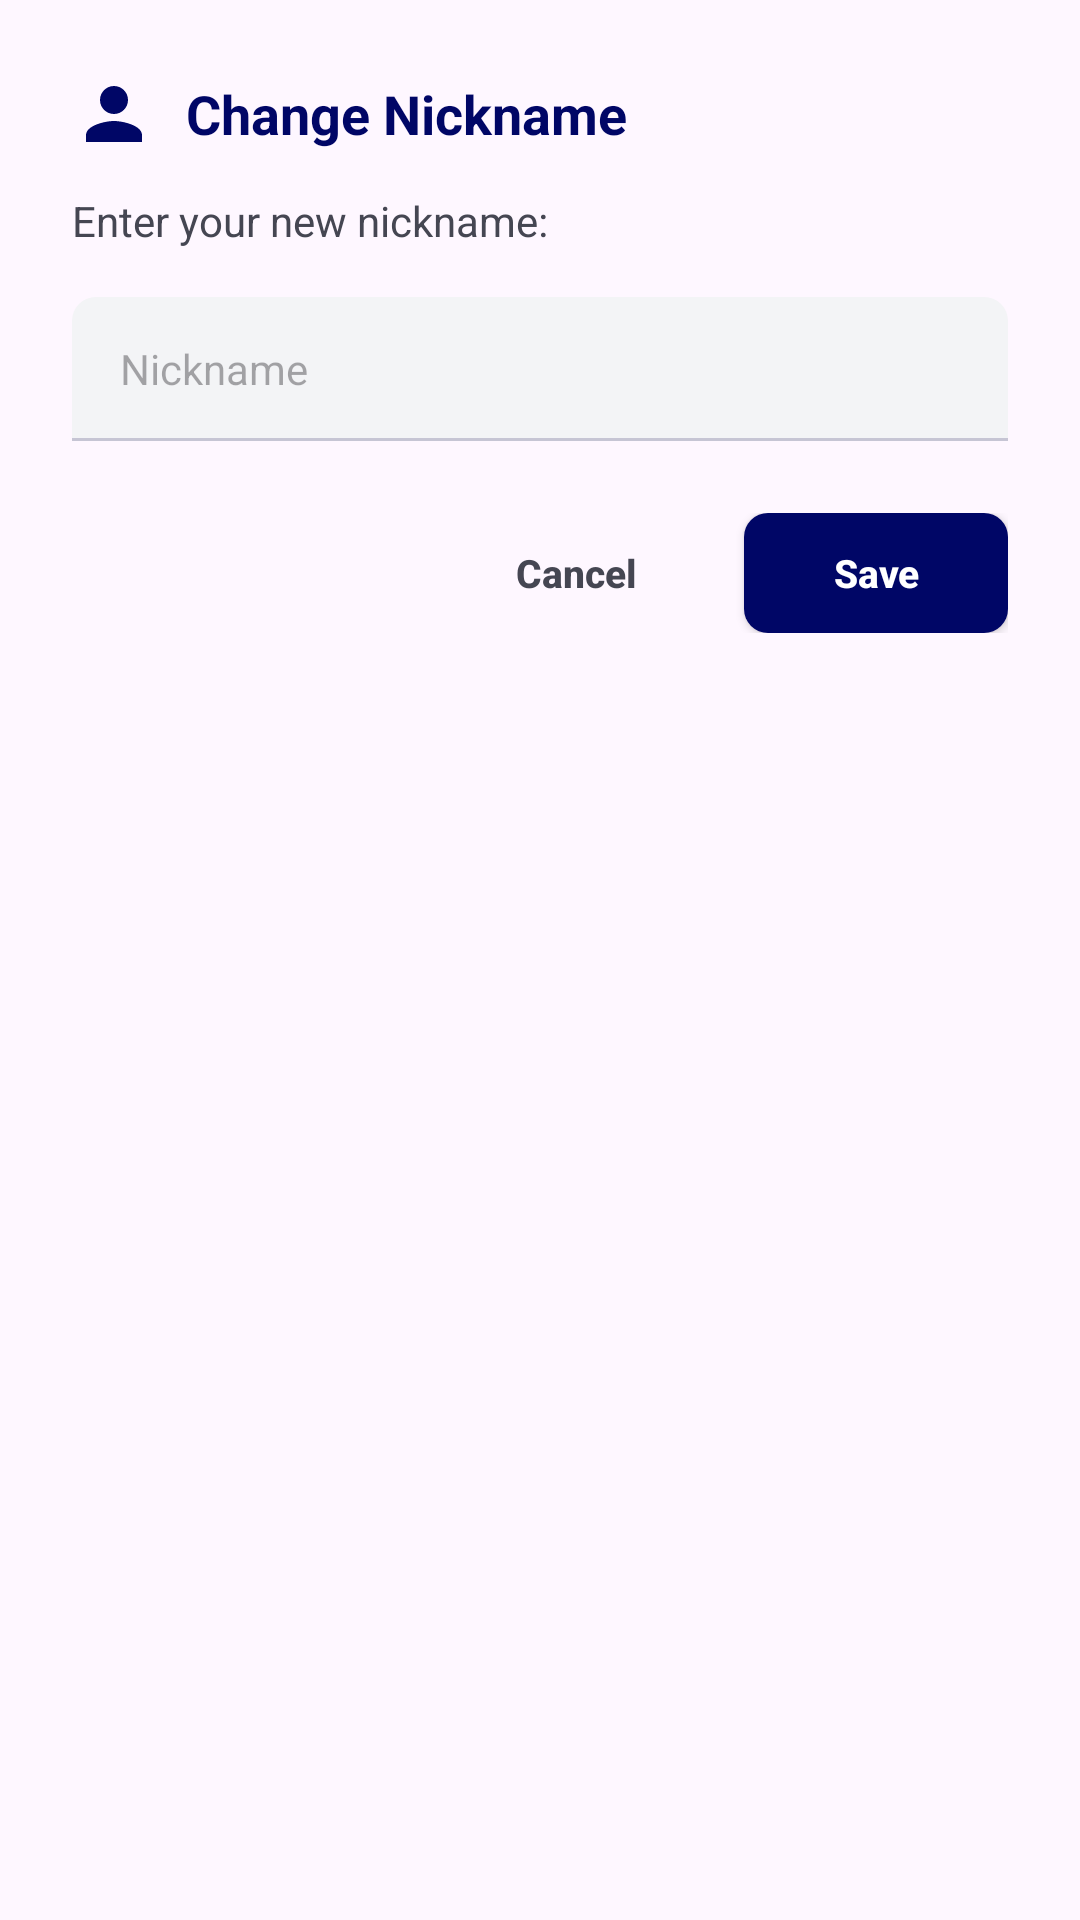

Icons on this 1080 × 1920 Android screen, each with its box as (x1, y1, x2, y2):
profile: (86, 86, 142, 142)
